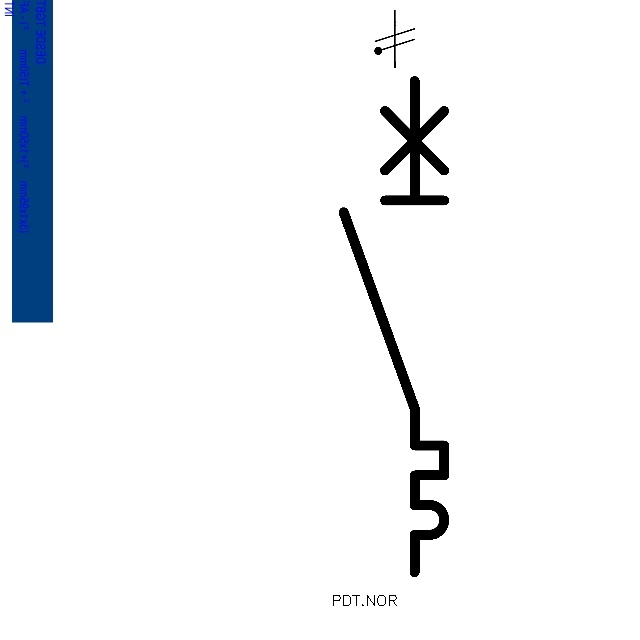interruptor_termomagnetico: (331, 68, 457, 585)
